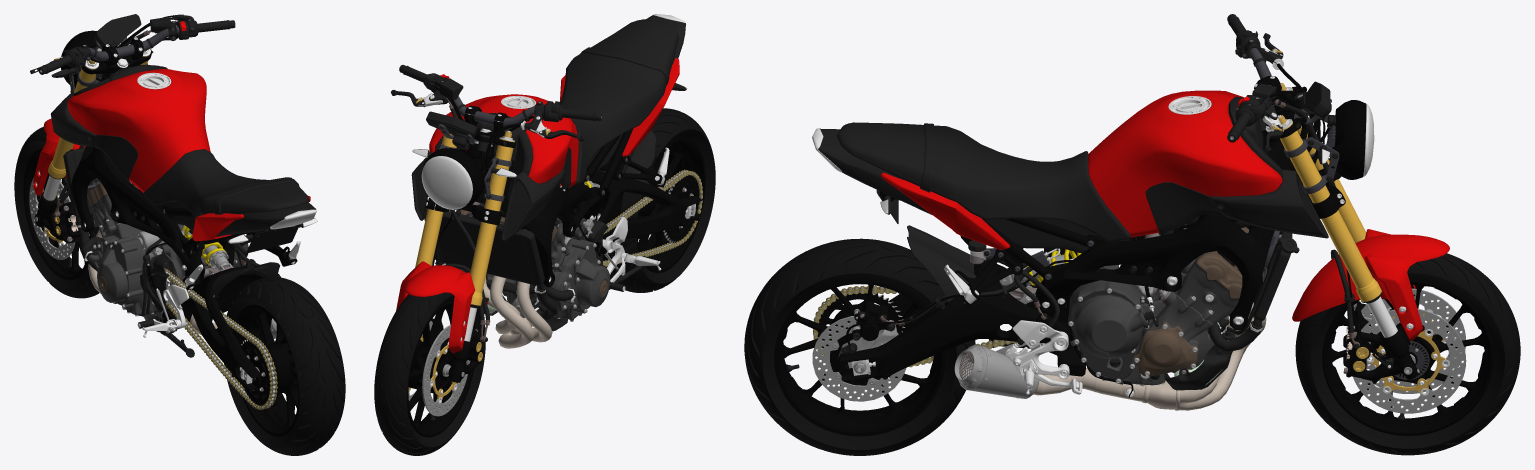
The model's file is generic_triple_motorcycle_flattened.fbx.
3 views of the same model, side by side, from view 1: azimuth 30°, elevation 25°; view 2: azimuth 150°, elevation 25°; view 3: azimuth 270°, elevation 25° (orthographic). The views are drawn at different scales.
Visible parts, largest first — view 1: rear tire surface, fuel tank, seat, frame, rear wheel geometry, rough_swingarn, front tire surface, crank case, stator cover, front rim, outer link.032, subframe cover (+31 smaller); view 2: seat, front tire surface, rear tire surface, raditator, frame, front rim, rough_swingarn, fuel tank, fork_tube, rear wheel geometry, front fender, scoops (+33 smaller); view 3: seat, rear tire surface, fuel tank, front tire surface, frame, rough_swingarn, rear wheel geometry, front rim, front fender, clutch cover, front rotor outer, fork_tube (+30 smaller).
Boxes of the visible parts, <box> form: rear tire surface: <box>224,277,345,455</box>; fuel tank: <box>67,68,210,192</box>; seat: <box>143,149,309,217</box>; frame: <box>70,73,234,328</box>; rear wheel geometry: <box>233,304,299,436</box>; rough_swingarn: <box>182,266,267,390</box>; front tire surface: <box>14,127,99,298</box>; crank case: <box>101,223,210,314</box>; stator cover: <box>96,236,136,308</box>; front rim: <box>23,148,90,280</box>; outer link.032: <box>165,268,277,409</box>; subframe cover: <box>216,202,316,236</box>; seat: <box>560,19,678,184</box>; front tire surface: <box>374,292,485,455</box>; rear tire surface: <box>602,108,715,292</box>; raditator: <box>424,211,544,289</box>; frame: <box>466,143,601,287</box>; front rim: <box>407,301,475,437</box>; rough_swingarn: <box>588,170,702,242</box>; fuel tank: <box>429,94,578,186</box>; fork_tube: <box>415,134,514,305</box>; rear wheel geometry: <box>636,137,705,273</box>; front fender: <box>396,261,487,353</box>; scoops: <box>411,157,564,240</box>; seat: <box>836,122,1130,242</box>; rear tire surface: <box>744,238,975,455</box>; fuel tank: <box>1088,90,1282,237</box>; front tire surface: <box>1295,253,1520,455</box>; frame: <box>1035,130,1318,376</box>; rough_swingarn: <box>837,257,1070,384</box>; rear wheel geometry: <box>774,280,945,436</box>; front rim: <box>1322,279,1493,435</box>; front fender: <box>1292,229,1449,340</box>; clutch cover: <box>1068,286,1149,380</box>; front rotor outer: <box>1353,288,1466,413</box>; fork_tube: <box>1280,89,1381,301</box>.
Bounding box in the file's own units: 75.24 × 112 × 204.
